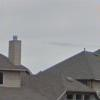Chimney: (4, 29, 26, 79)
